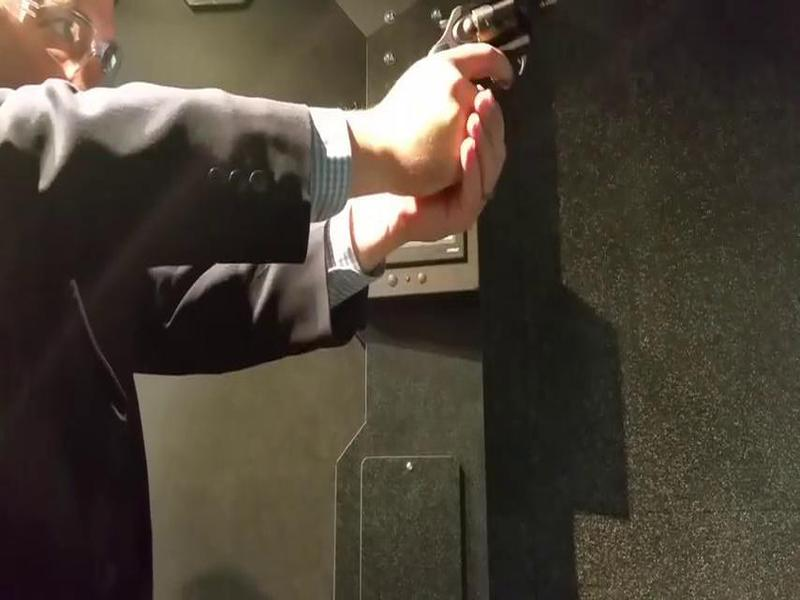Revolver: (404, 1, 564, 126)
